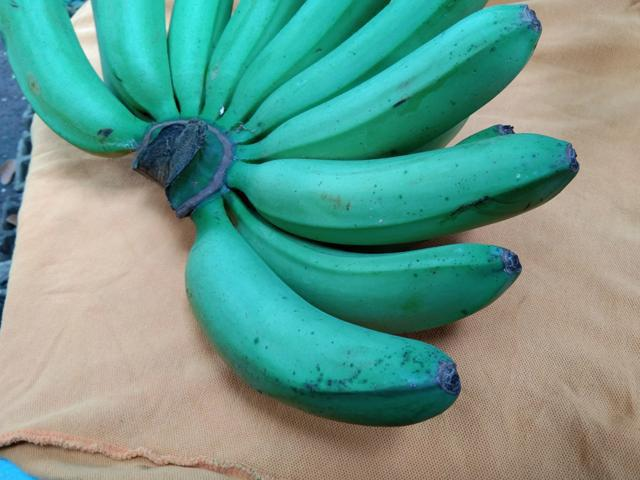freshunripe: (179, 225, 459, 436), (266, 1, 557, 159), (231, 198, 529, 340), (251, 126, 584, 235), (233, 1, 476, 143), (213, 0, 399, 124), (154, 0, 245, 124), (81, 0, 180, 108)
unripe: (0, 0, 140, 161)
